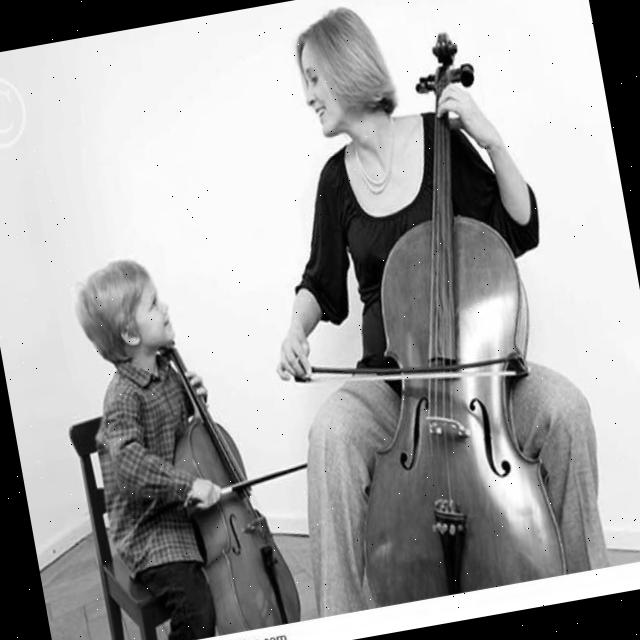cello: (275, 22, 566, 608), (129, 292, 304, 640)
